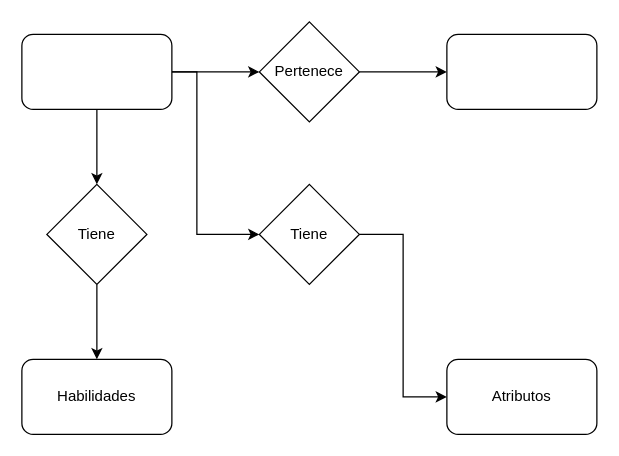
Some shapes in this 619 by 456 pixel diagram are drawn without their labels. Each missing label, with the centre of its shape:
"Pokemon" belongs at pixel 96 71.
"Tipología" belongs at pixel 521 71.
